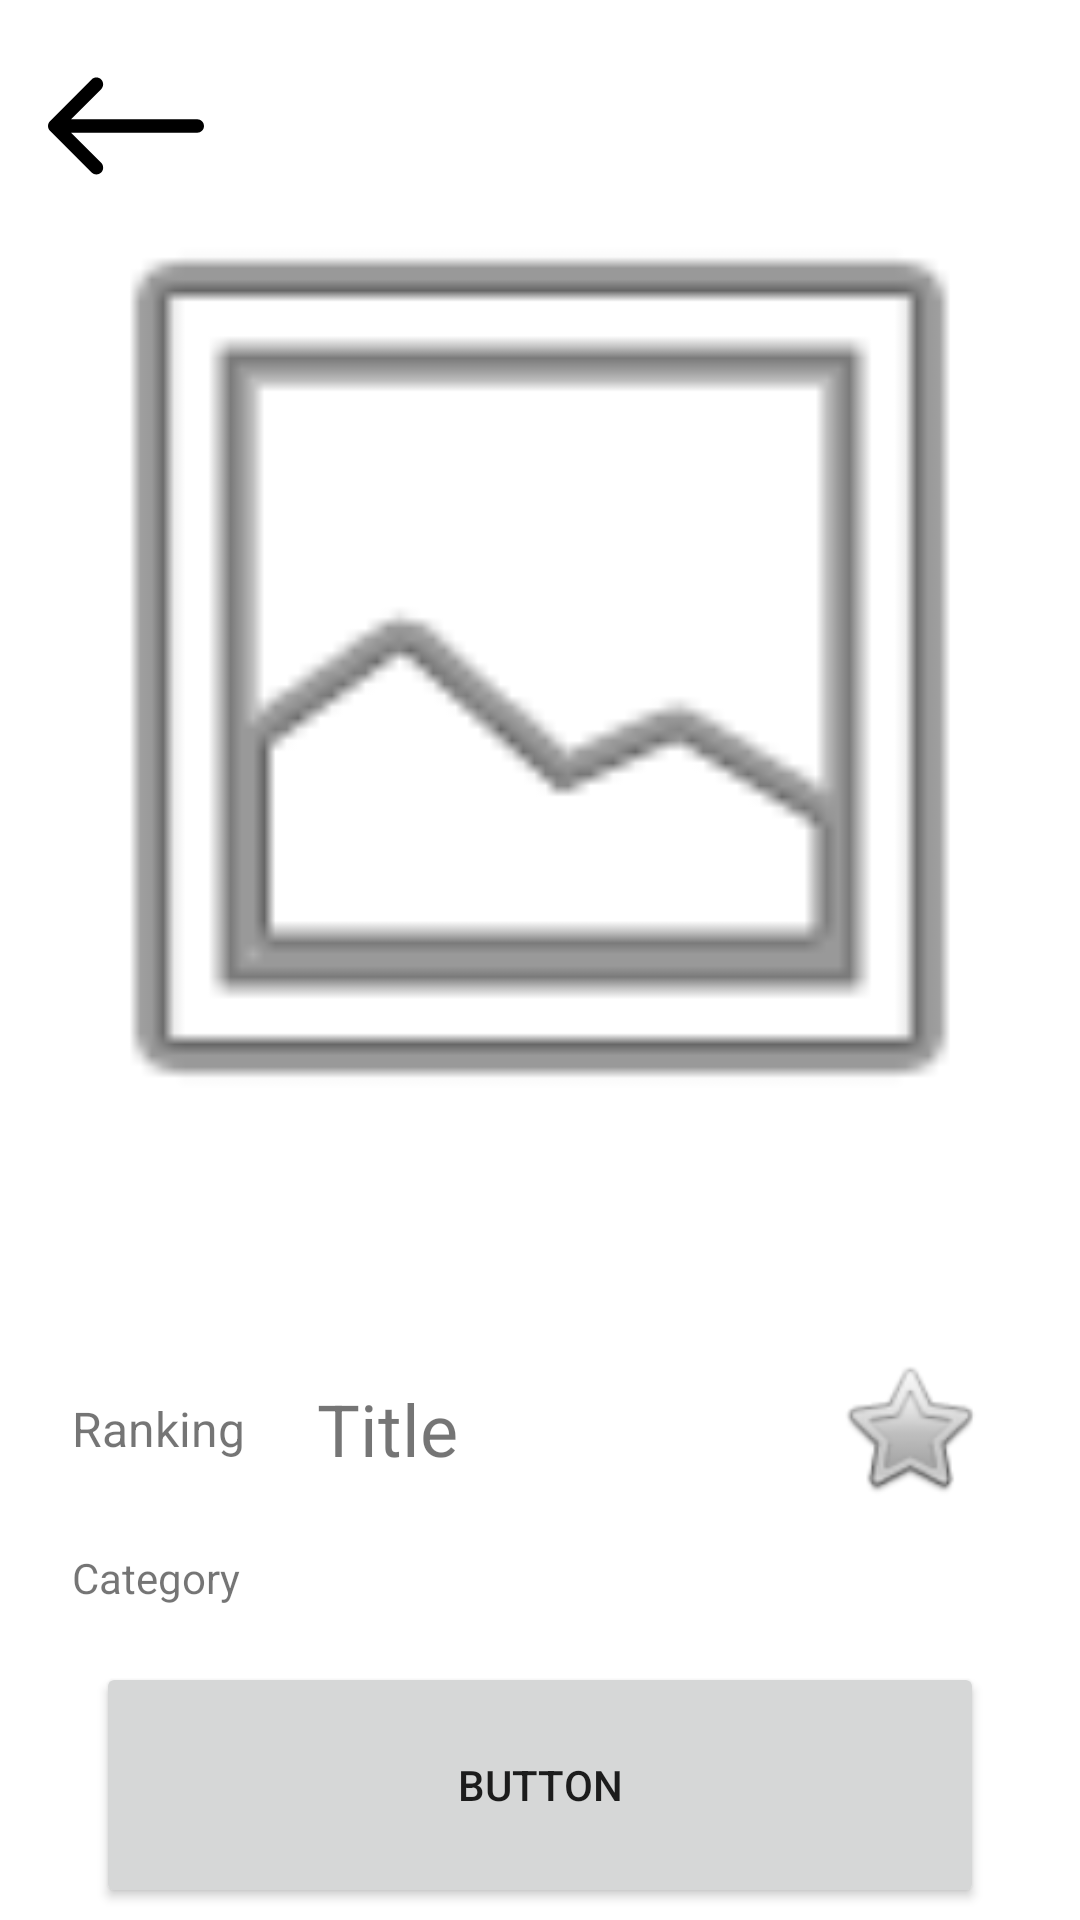

Where icons sit on this 1080w x 1920h app screen, as [x1,y1,x2,y2]:
left arrow: [48,77,204,175]
star off: [848,1368,973,1490]
